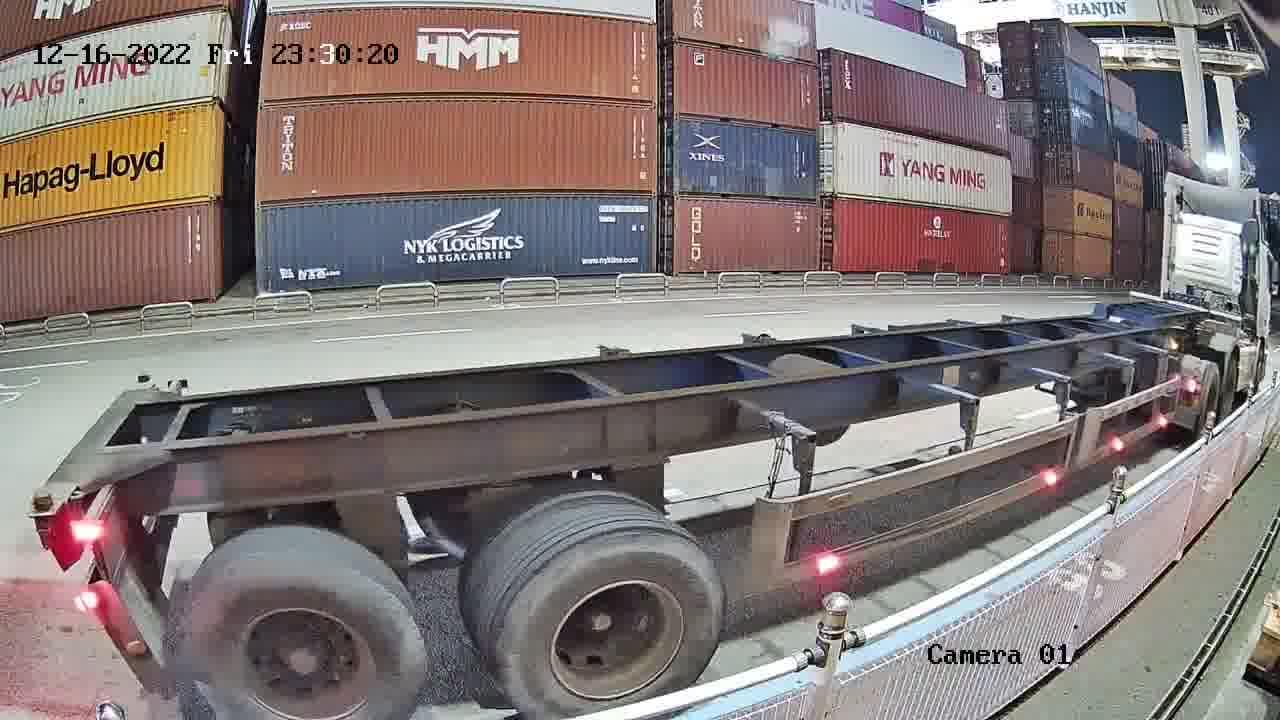Chassis: (30, 393, 150, 514)
Cone: (28, 491, 57, 549), (133, 371, 153, 396)
Tire: (502, 530, 726, 719), (180, 567, 437, 717)
